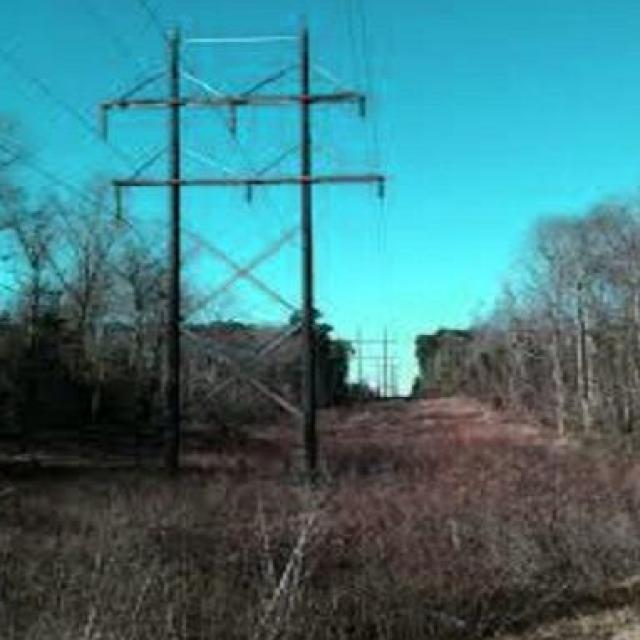non-critical vegetation: (115, 10, 368, 483)
